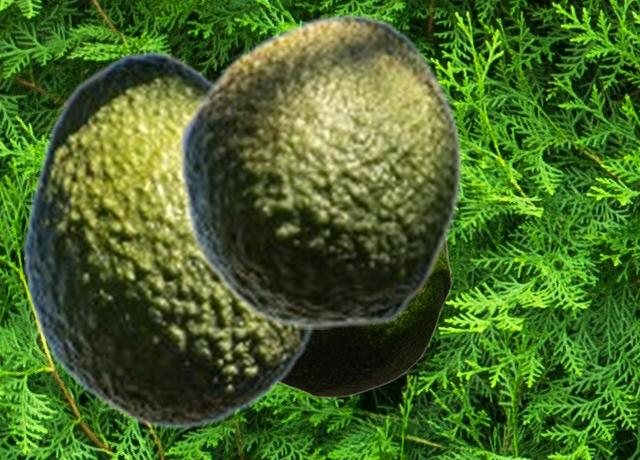avocado: (20, 50, 320, 429), (177, 13, 462, 328), (280, 239, 451, 397)
